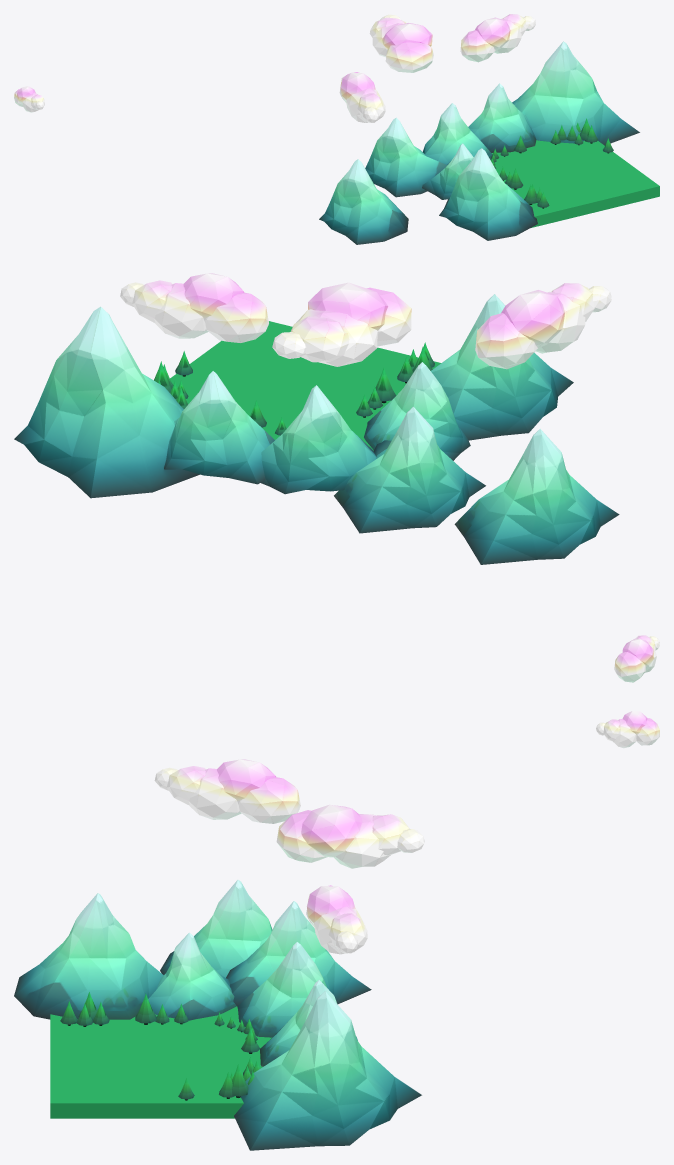
3 views of the same model, one above another, from view 1: azimuth 30°, elevation 25°; view 2: azimuth 150°, elevation 25°; view 3: azimuth 270°, elevation 25° (orthographic). The views are drawn at different scales.
Parts seen in each view (by area): view 1: PINGTAI, 柱体.003, 柱体.002, 柱体.006, 柱体.001, yun.001, 柱体, yun.002, 柱体.004, yun.003, 柱体.005, yun; view 2: 柱体.003, 柱体.006, PINGTAI, 柱体.001, 柱体.002, yun.001, 柱体, 柱体.004, yun.002, yun.003, 柱体.005, yun; view 3: PINGTAI, 柱体.003, 柱体.002, yun.001, yun.003, 柱体.001, 柱体.005, 柱体.006, 柱体.004, yun.002, yun, 柱体.
Part boxes in pixels (box(x1,y1,x2,y2)): PINGTAI: box(490, 140, 659, 227); 柱体.003: box(512, 41, 639, 145); 柱体.002: box(439, 148, 537, 240); 柱体.006: box(319, 159, 408, 244); 柱体.001: box(365, 117, 447, 197); yun.001: box(369, 14, 433, 72); 柱体: box(468, 83, 536, 152); yun.002: box(460, 14, 535, 62); 柱体.004: box(423, 103, 492, 164); yun.003: box(339, 72, 385, 122); 柱体.005: box(422, 143, 473, 199); yun: box(14, 86, 44, 112); 柱体.003: box(14, 306, 199, 498); 柱体.006: box(454, 429, 619, 564); PINGTAI: box(170, 321, 440, 450); 柱体.001: box(334, 406, 485, 533); 柱体.002: box(431, 294, 573, 440); yun.001: box(272, 282, 411, 366); 柱体: box(164, 371, 274, 484); 柱体.004: box(261, 385, 376, 494); yun.002: box(120, 273, 268, 342); yun.003: box(475, 283, 611, 369); 柱体.005: box(364, 362, 470, 460); yun: box(614, 635, 659, 682); PINGTAI: box(50, 1006, 271, 1118); 柱体.003: box(234, 991, 421, 1150); 柱体.002: box(14, 893, 163, 1019); yun.001: box(276, 804, 424, 868); yun.003: box(154, 759, 300, 823); 柱体.001: box(226, 901, 371, 1006); 柱体.005: box(148, 932, 236, 1020); 柱体.006: box(160, 880, 272, 977); 柱体.004: box(237, 942, 326, 1037); yun.002: box(306, 885, 367, 954); yun: box(596, 711, 659, 748); 柱体: box(260, 979, 357, 1066).
Bounding box in the file's own units: 39.22 × 11.59 × 30.75.
4 materials, 3 textured.
